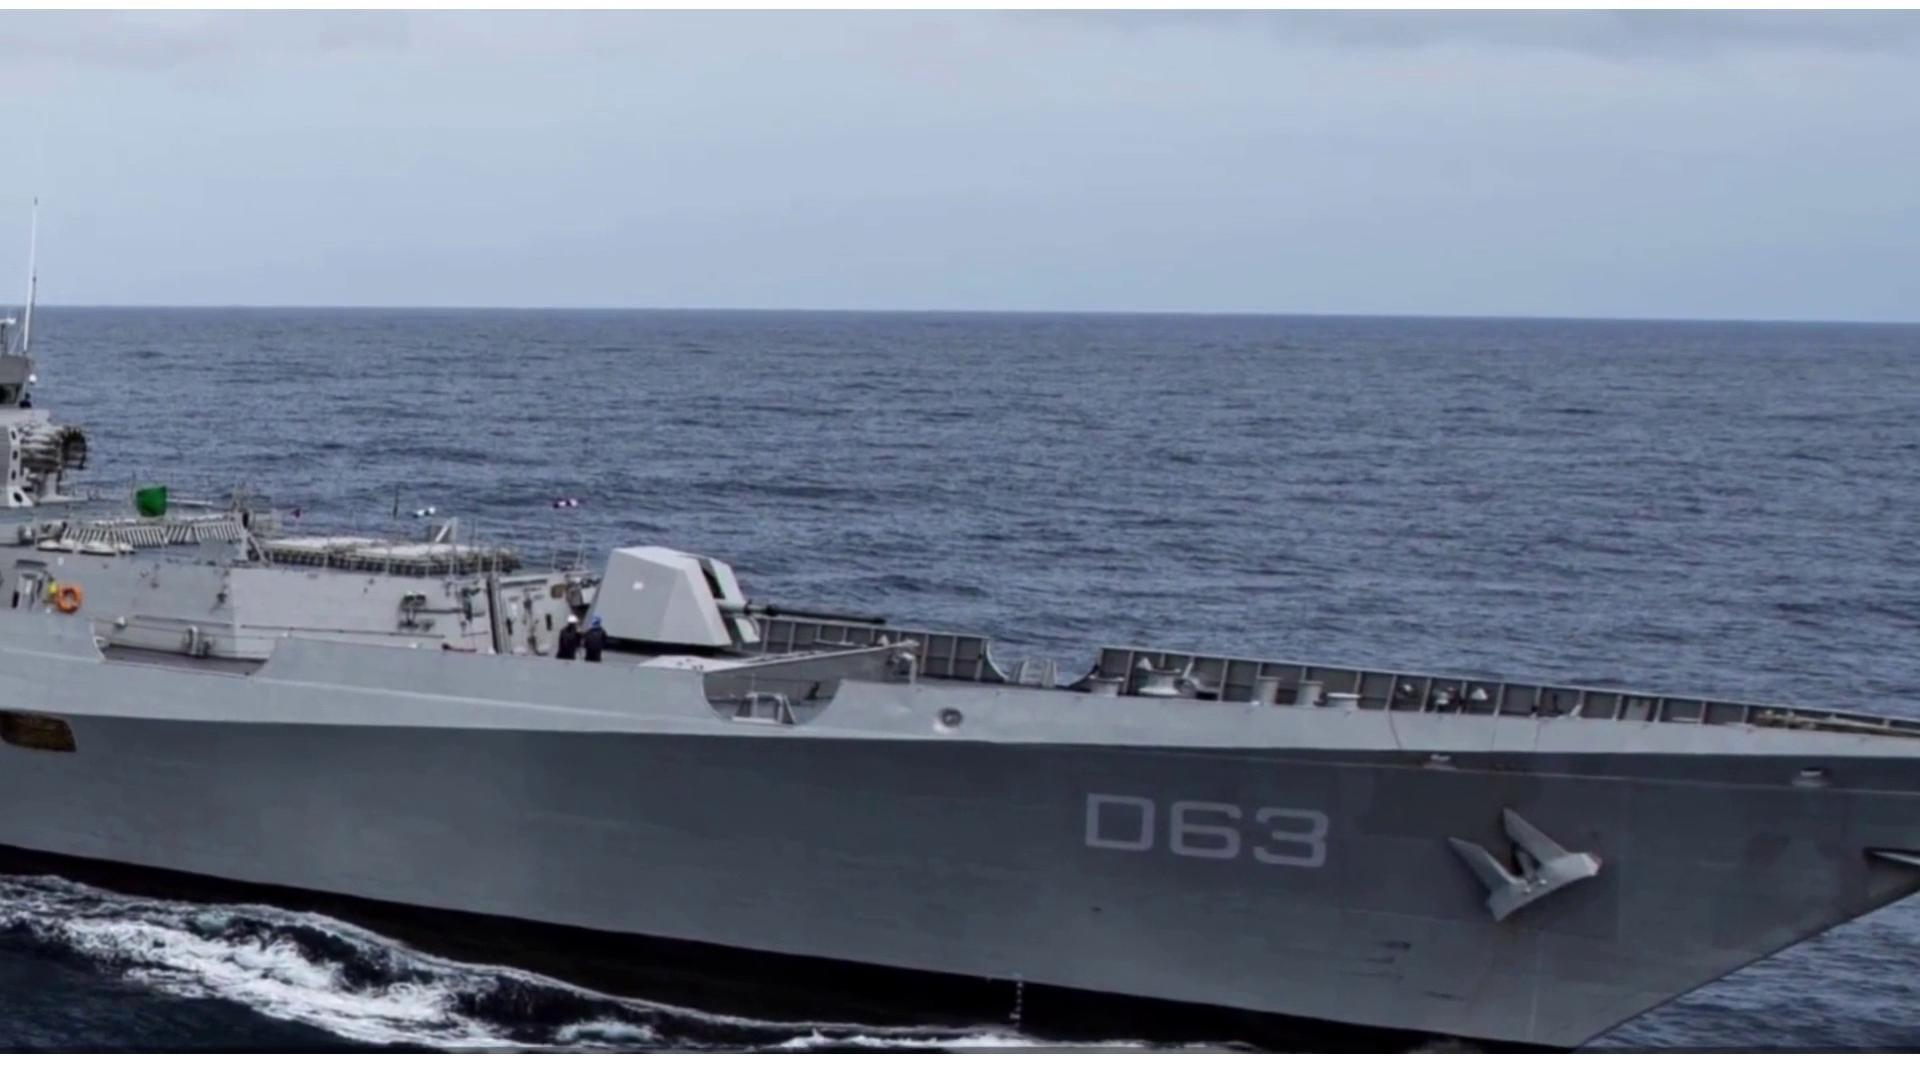OCR: (1075, 782, 1340, 880)
